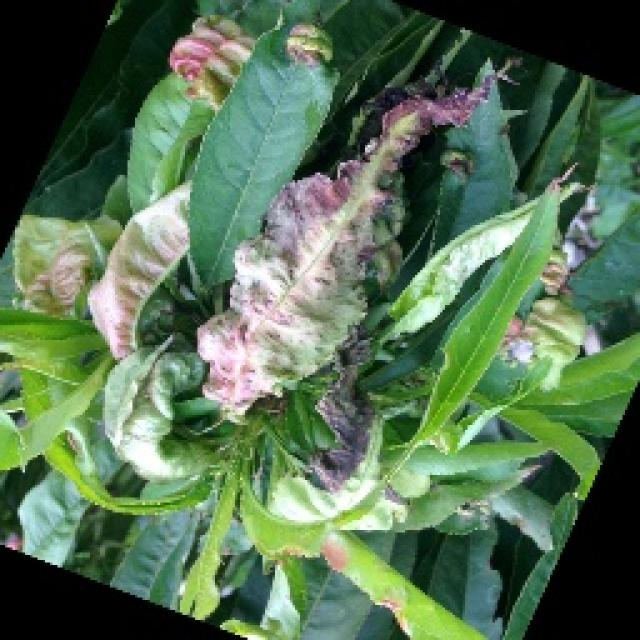peach_leaf_curl: (192, 162, 398, 420)
